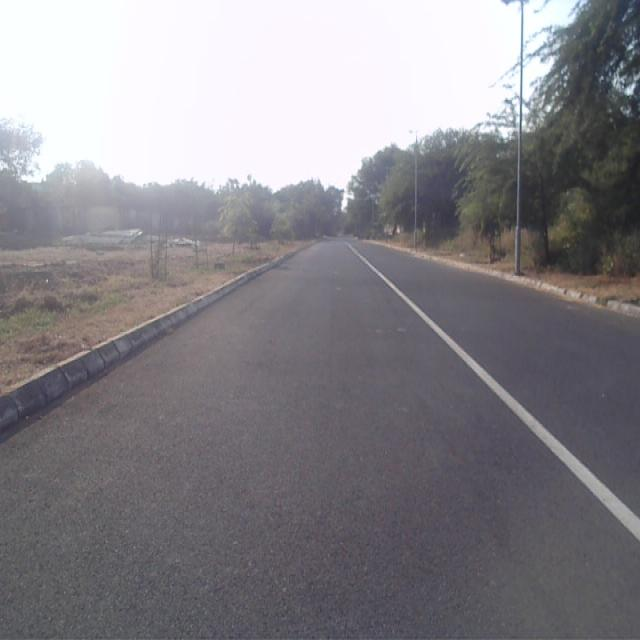lane: (0, 240, 640, 640)
